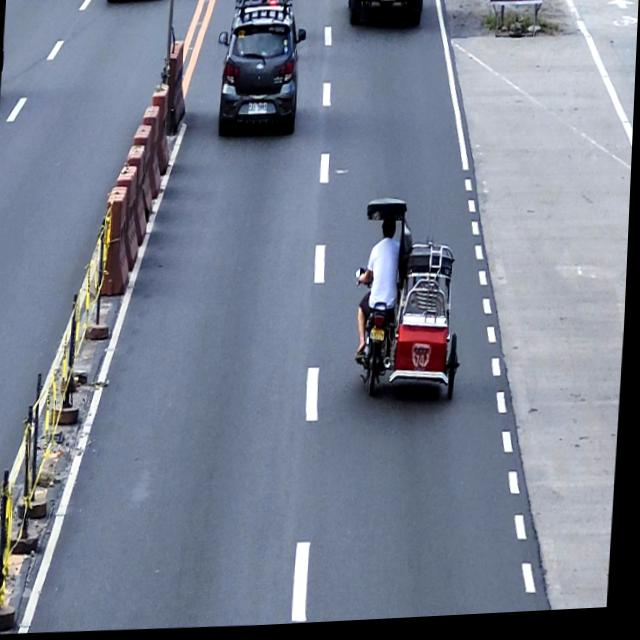Car: (213, 0, 309, 141), (345, 0, 424, 30)
License-Plate: (248, 103, 269, 117), (371, 331, 388, 346), (380, 0, 397, 5)
Tricycle: (352, 199, 472, 412)
